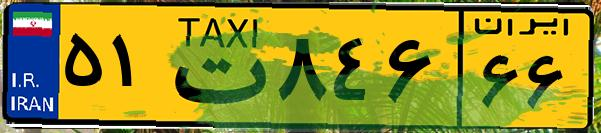1: (110, 28, 158, 98)
4: (330, 28, 385, 110)
5: (57, 26, 110, 100)
6: (385, 28, 445, 110), (475, 38, 525, 113), (525, 38, 570, 115)
8: (270, 28, 330, 110)
ت: (158, 12, 270, 120)
